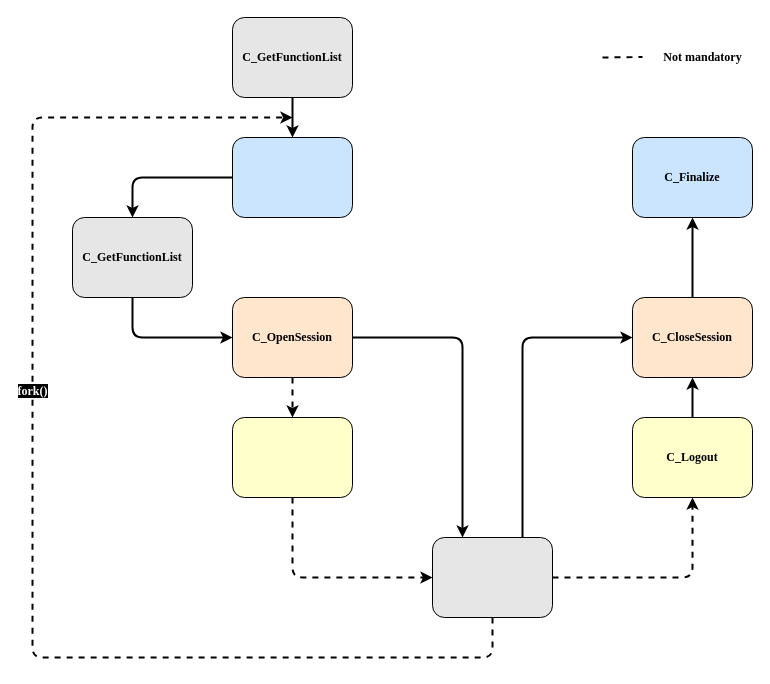
The diagram is 770 pixels wide and 684 high, and some of its shapes have lost their labels. The shapes that lost their labels are listed below. From the top down, each one's centre as x and y in pixels, then its label:
the point at 292,177: C_Initialize
the point at 292,457: C_Login
the point at 492,577: Perform actions on token
